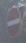No entry: (5, 5, 21, 38)
